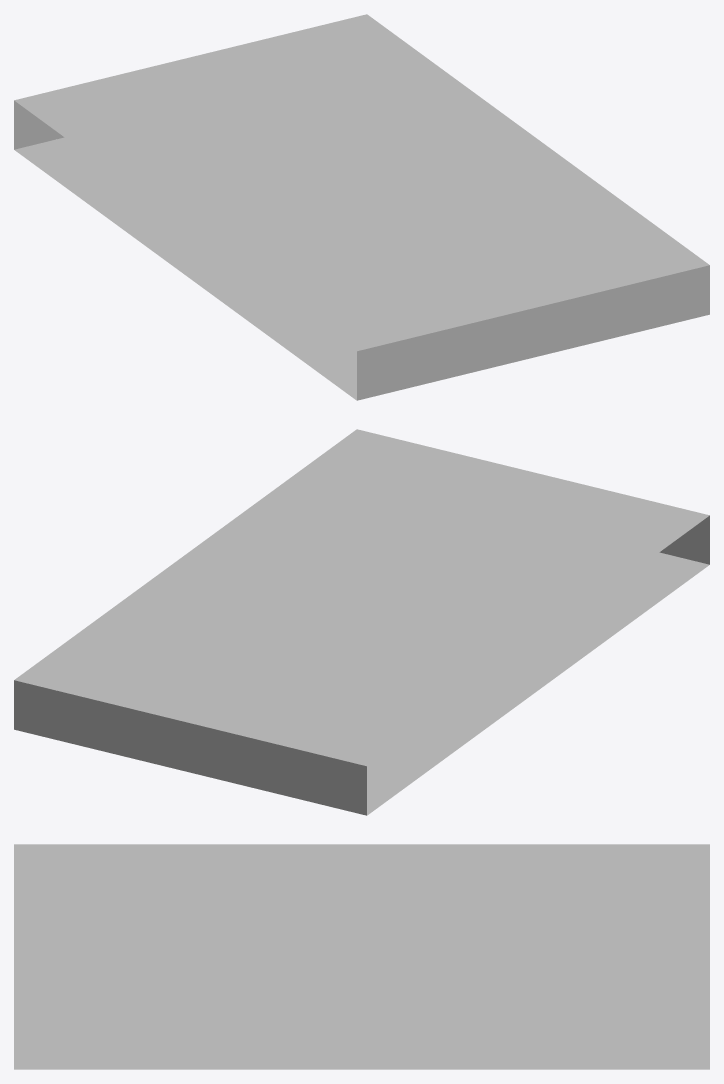
The model's file is Itr_Diningtable_Top_Middle_06.FBX.
3 views of the same model, one above another, from view 1: azimuth 30°, elevation 25°; view 2: azimuth 150°, elevation 25°; view 3: azimuth 270°, elevation 25° (orthographic).
Visible parts, largest first — view 1: Itr_Diningtable_Top_Middle_06; view 2: Itr_Diningtable_Top_Middle_06; view 3: Itr_Diningtable_Top_Middle_06.
Boxes of the visible parts, box(x1,y1,x2,y2) form: Itr_Diningtable_Top_Middle_06: box(14, 14, 709, 400); Itr_Diningtable_Top_Middle_06: box(14, 429, 709, 815); Itr_Diningtable_Top_Middle_06: box(14, 844, 709, 1069).
Bounding box in the file's own units: 24.68 × 3.3 × 41.52.
